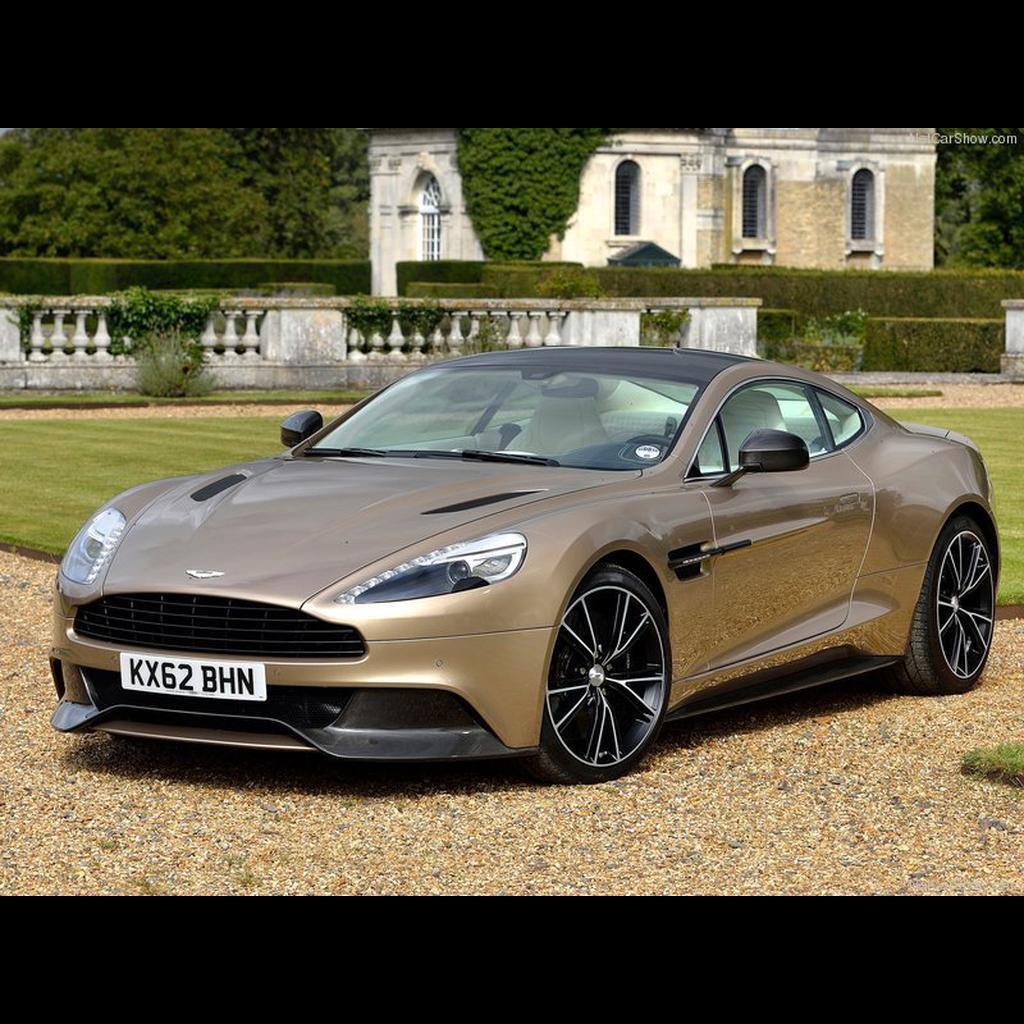aero: (48, 658, 540, 757), (667, 537, 750, 581)
bodysurface: (663, 458, 912, 666)
coupe: (45, 345, 1002, 784)
dlo: (684, 375, 873, 483)
fender: (515, 485, 702, 640), (864, 431, 1002, 542)
frontbumper: (49, 589, 583, 760)
grill: (68, 590, 366, 662)
headlamp: (333, 533, 528, 603), (62, 506, 127, 584)
hood: (68, 456, 644, 613)
mirror: (709, 428, 810, 485), (280, 408, 324, 453)
opening: (408, 684, 510, 748), (418, 490, 552, 514), (190, 468, 250, 502), (45, 652, 67, 701)
spoiler: (894, 420, 981, 458)
wheel: (545, 585, 665, 766), (935, 529, 993, 678)
